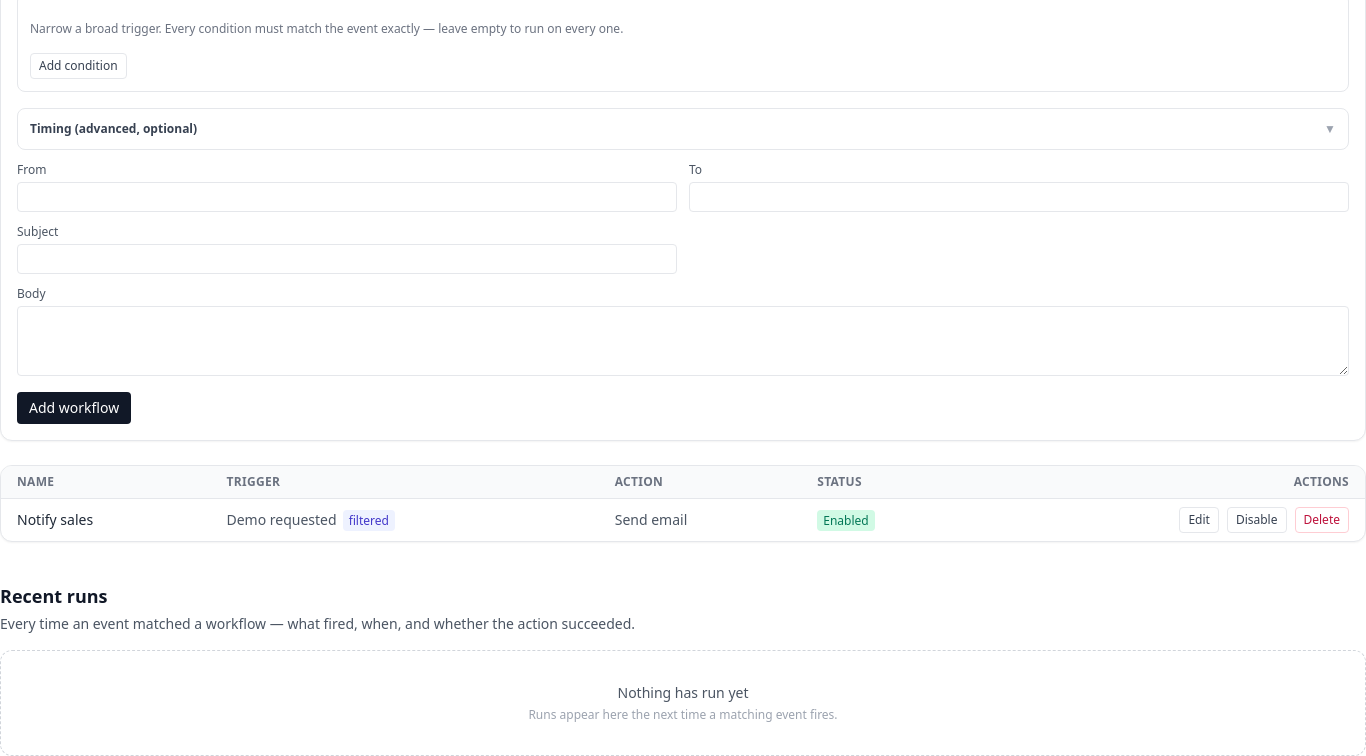
Test: OrchestrationPage › loads existing conditions into the form for editing
(page scrolled)
Click the button "Edit": [1199, 520] box top-left (1179, 507), bottom-right (1219, 533)
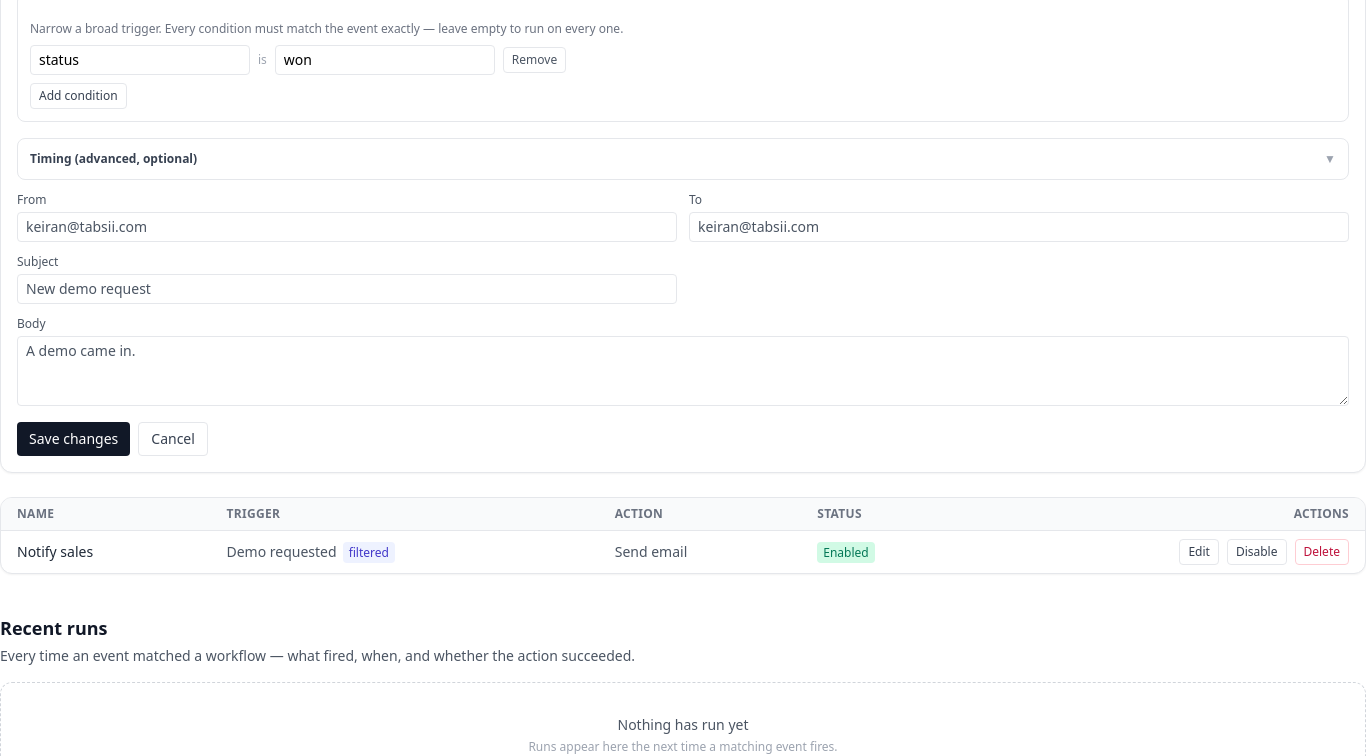
Check: the field named "Condition 1 field" holds "status", box top-left (30, 45), bottom-right (250, 75)
Check: the field named "Condition 1 value" holds "won", box top-left (275, 45), bottom-right (495, 75)
